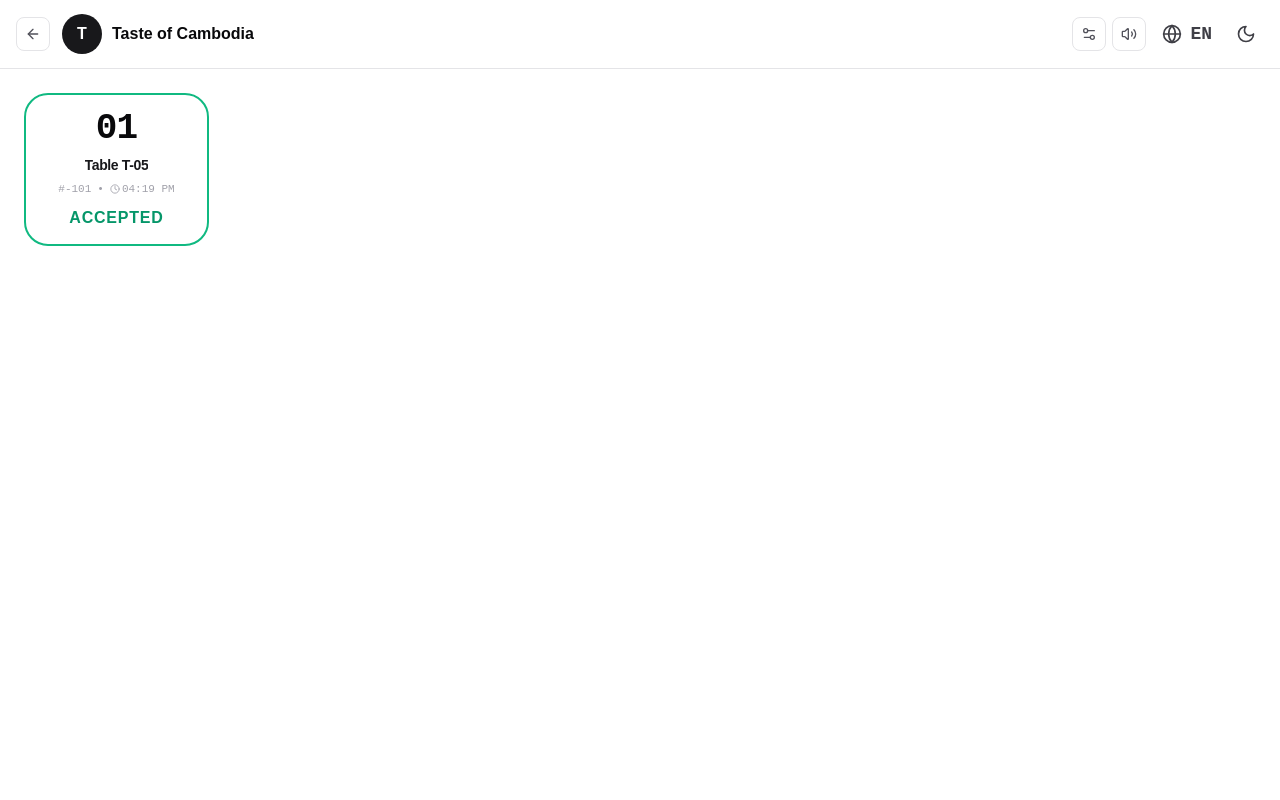
KDSPage render stability › mounts and renders without exceeding maximum update depth
The width and height of the screenshot is (1280, 800).
Check: the heading "Taste of Cambodia" is shown, box [112,22,254,46]
// Click container button to open slide-over drawer and verify items
Click the heading "Table T-05".
click(116, 165)  # box [84,155,148,175]
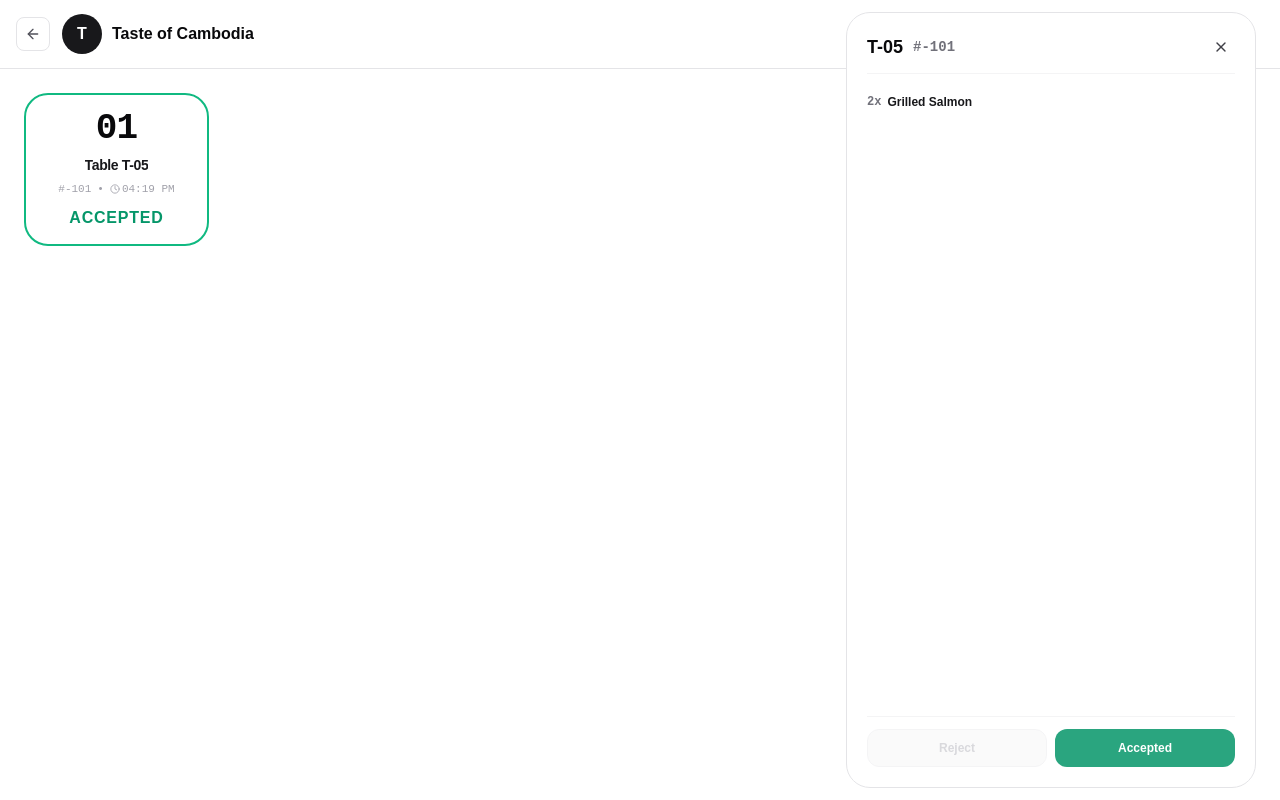
Check: the text "Grilled Salmon" is shown, box [887,94,972,110]
